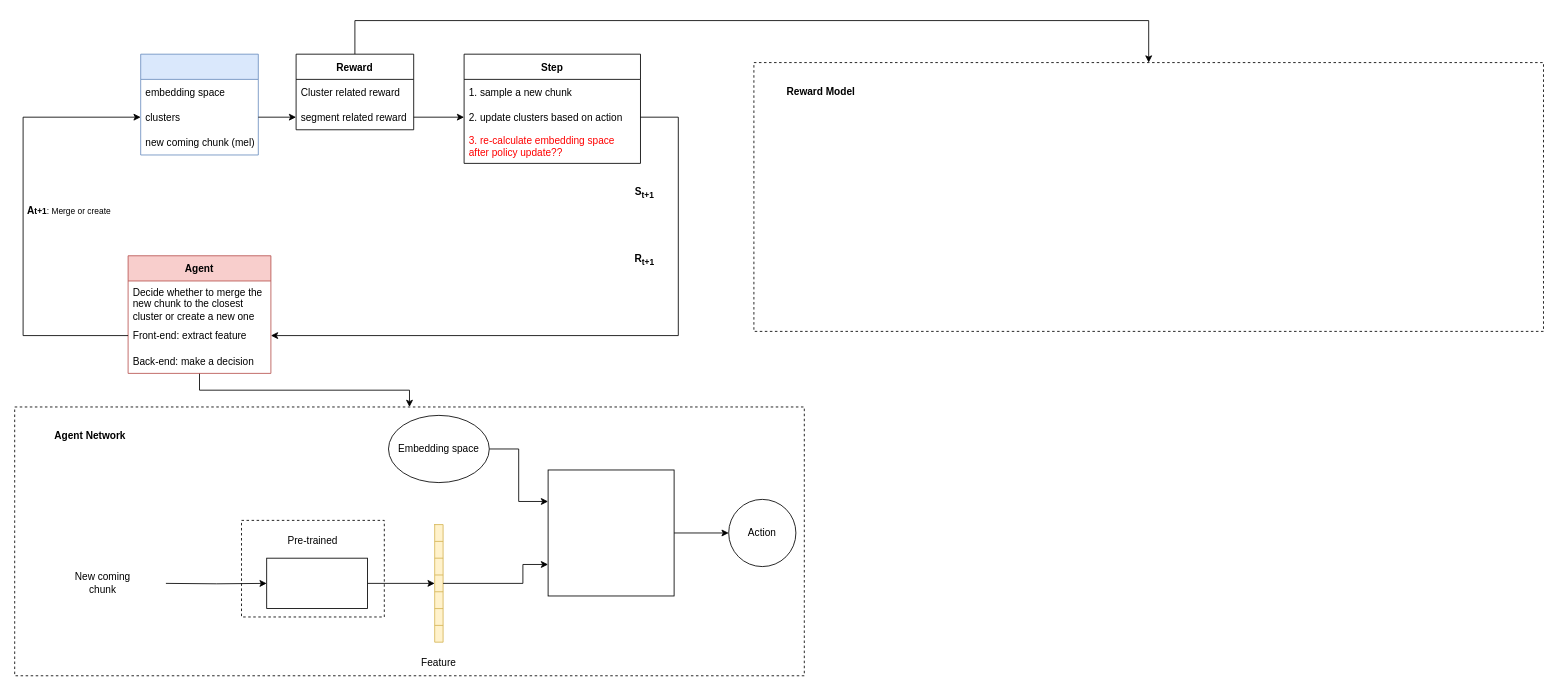
Image size: 1558x690. Some labels were removed from this diagram. Each missing label, with the box of its shape:
Back-end: (547, 469, 674, 596)
Front-end: (266, 557, 368, 609)
State: (140, 53, 258, 155)
